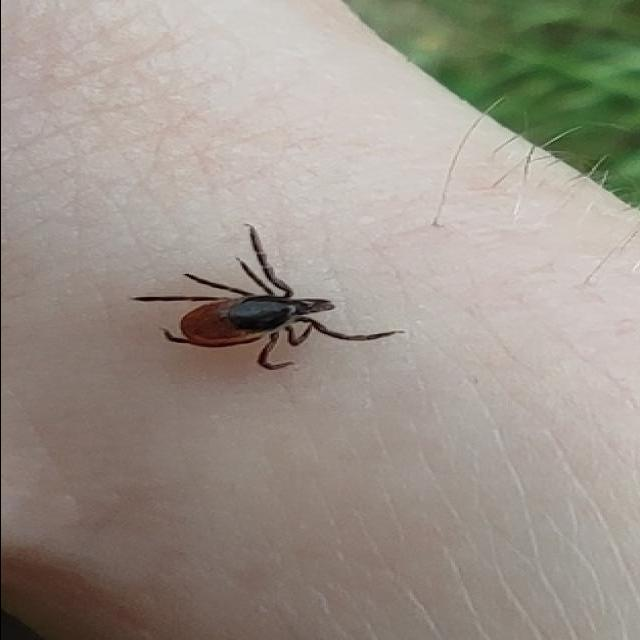Ixodes Ricinus-F: (127, 224, 401, 372)
